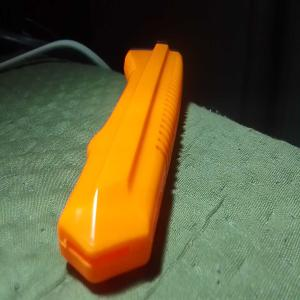estilete: (56, 42, 184, 286)
